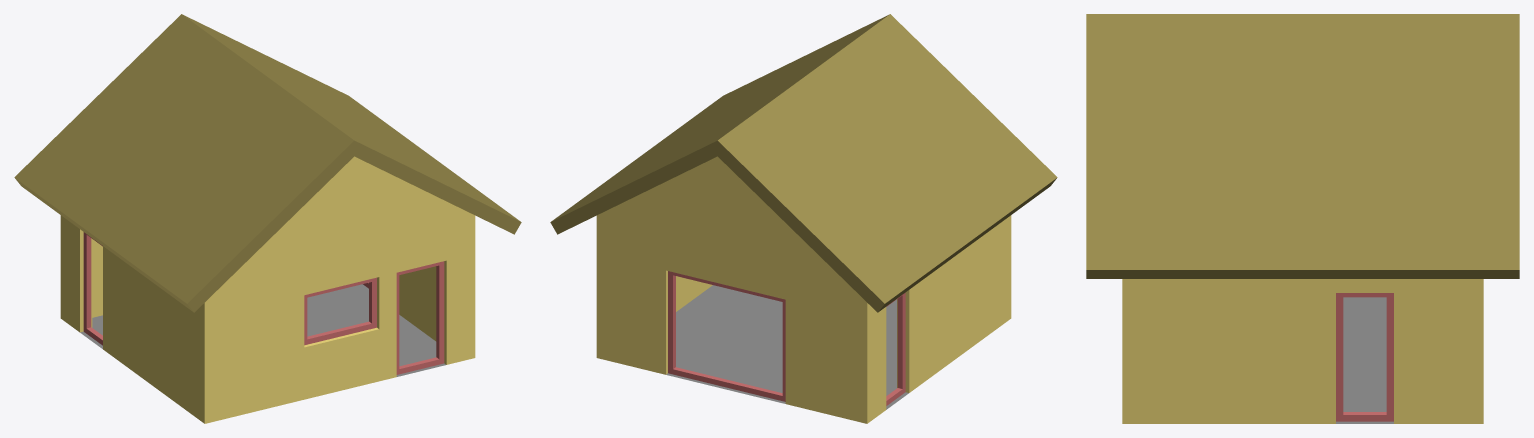
Rendered from result.glb.
The picture shows the model from 3 angles, left to right: view 1: azimuth 30°, elevation 25°; view 2: azimuth 150°, elevation 25°; view 3: azimuth 270°, elevation 25°; orthographic projection. The views are drawn at different scales.
Visible parts, largest first — view 1: 5c503c57-59e0-46ca-9870-62cfb666cbe6__undefined (×2), 6bb15c29-4d52-474a-ad17-06dcd3ca28d1__undefined, 32ac2fd4-8cca-417f-a999-2930b12c4397__Plane_6, 15275b0b-2444-44fa-8ad3-3b7c21b716e6__Box, db15db53-fa26-46d2-82db-9a22834cc606__Box_3, 6007efbd-958f-44ae-9fa2-c196eb60b79d__Box_12; view 2: 5c503c57-59e0-46ca-9870-62cfb666cbe6__undefined (×2), 6bb15c29-4d52-474a-ad17-06dcd3ca28d1__undefined, 32ac2fd4-8cca-417f-a999-2930b12c4397__Plane_6, f5e304d9-4ad9-4dcd-af0b-bbcf2e48ac5f__Box_9, 6007efbd-958f-44ae-9fa2-c196eb60b79d__Box_12; view 3: 5c503c57-59e0-46ca-9870-62cfb666cbe6__undefined, 6bb15c29-4d52-474a-ad17-06dcd3ca28d1__undefined, 32ac2fd4-8cca-417f-a999-2930b12c4397__Plane_6, 446f38b7-b706-435c-b670-fbf79b8c9f11__Box_15.
Boxes of the visible parts, x1,y1,x2,y2 form: 5c503c57-59e0-46ca-9870-62cfb666cbe6__undefined (×2): [14, 14, 521, 312]; 6bb15c29-4d52-474a-ad17-06dcd3ca28d1__undefined: [60, 156, 475, 423]; 32ac2fd4-8cca-417f-a999-2930b12c4397__Plane_6: [80, 284, 445, 376]; 15275b0b-2444-44fa-8ad3-3b7c21b716e6__Box: [396, 261, 444, 374]; db15db53-fa26-46d2-82db-9a22834cc606__Box_3: [304, 277, 376, 345]; 6007efbd-958f-44ae-9fa2-c196eb60b79d__Box_12: [83, 232, 102, 345]; 5c503c57-59e0-46ca-9870-62cfb666cbe6__undefined (×2): [550, 14, 1057, 312]; 6bb15c29-4d52-474a-ad17-06dcd3ca28d1__undefined: [596, 156, 1011, 423]; 32ac2fd4-8cca-417f-a999-2930b12c4397__Plane_6: [666, 285, 908, 409]; f5e304d9-4ad9-4dcd-af0b-bbcf2e48ac5f__Box_9: [668, 271, 785, 401]; 6007efbd-958f-44ae-9fa2-c196eb60b79d__Box_12: [886, 292, 905, 405]; 5c503c57-59e0-46ca-9870-62cfb666cbe6__undefined: [1086, 14, 1519, 278]; 6bb15c29-4d52-474a-ad17-06dcd3ca28d1__undefined: [1122, 279, 1483, 423]; 32ac2fd4-8cca-417f-a999-2930b12c4397__Plane_6: [1336, 297, 1393, 423]; 446f38b7-b706-435c-b670-fbf79b8c9f11__Box_15: [1336, 293, 1393, 421].
Bounding box in the file's own units: 671 × 500 × 600.
